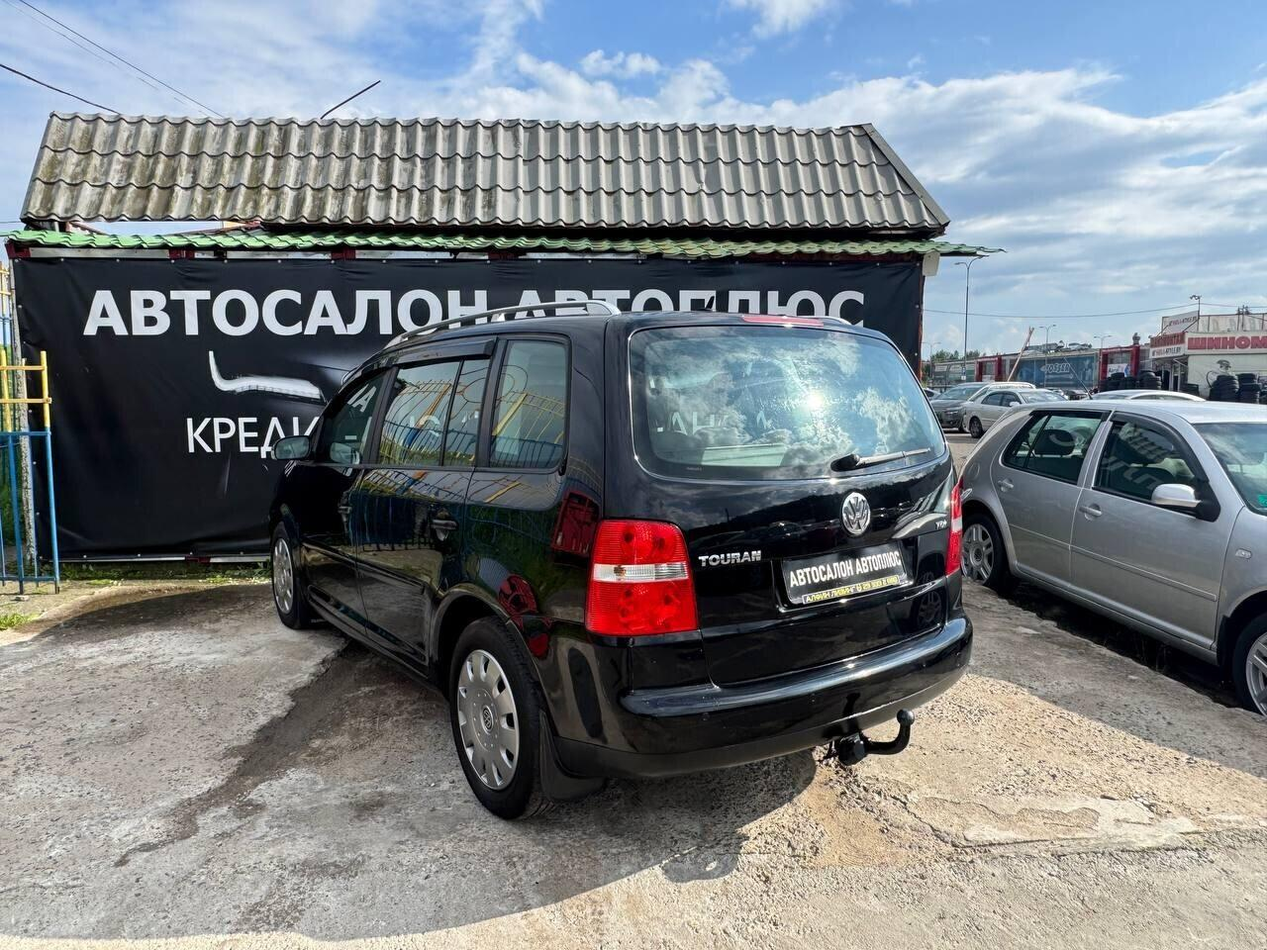Touran_2003-2006: (261, 312, 974, 826)
